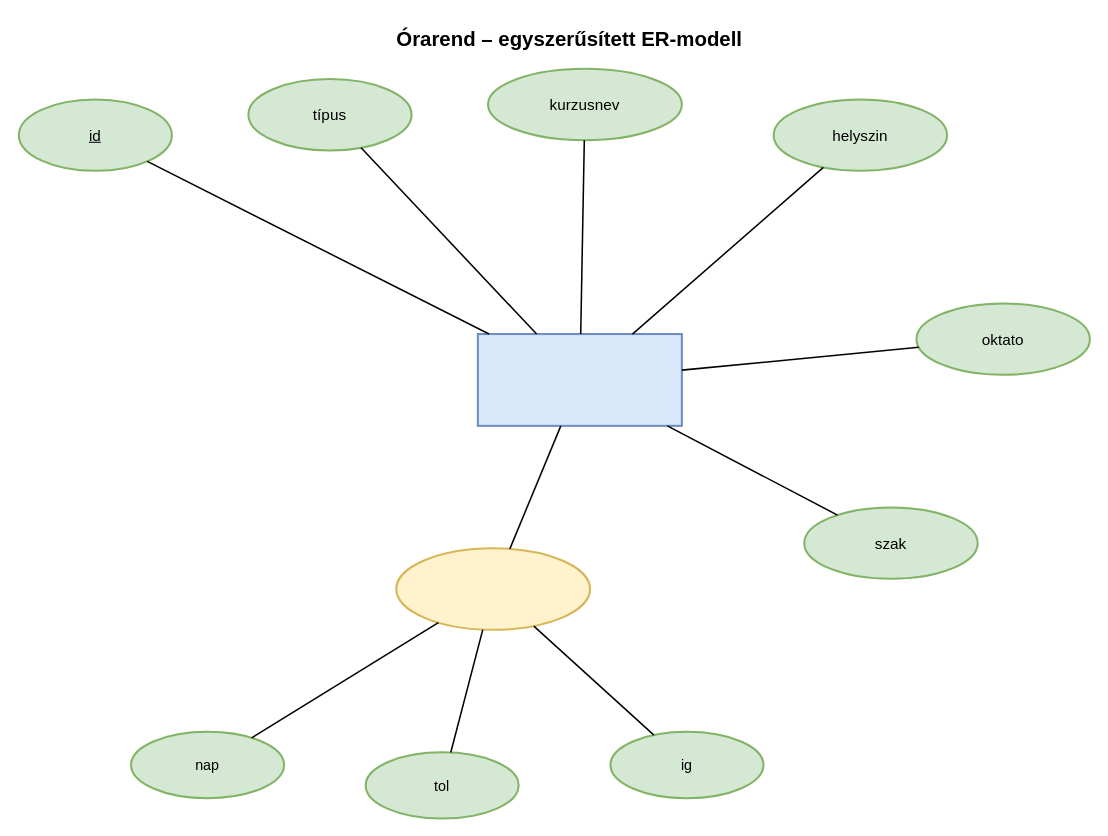
This 1108x836 diagram has some shape labels left out. Here are the shapes that lost their labels. From the top down, the centre of each, then its label:
the point at 579,379: ÓRA
the point at 493,588: időpont
